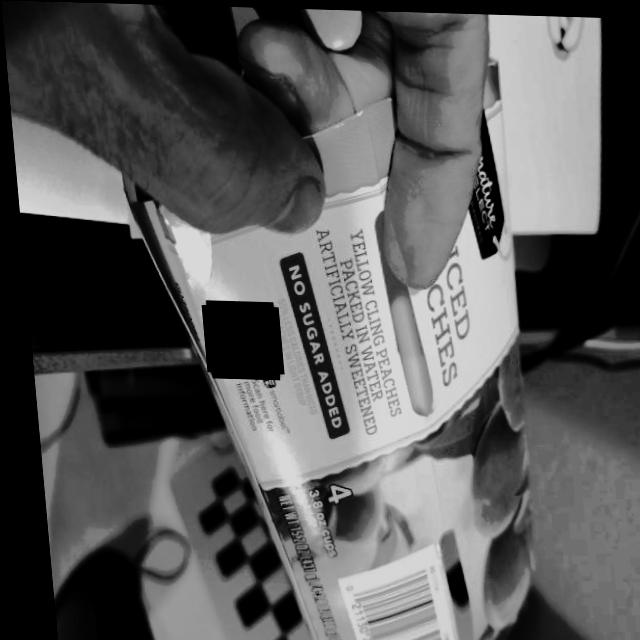qr_code: (197, 302, 275, 376)
